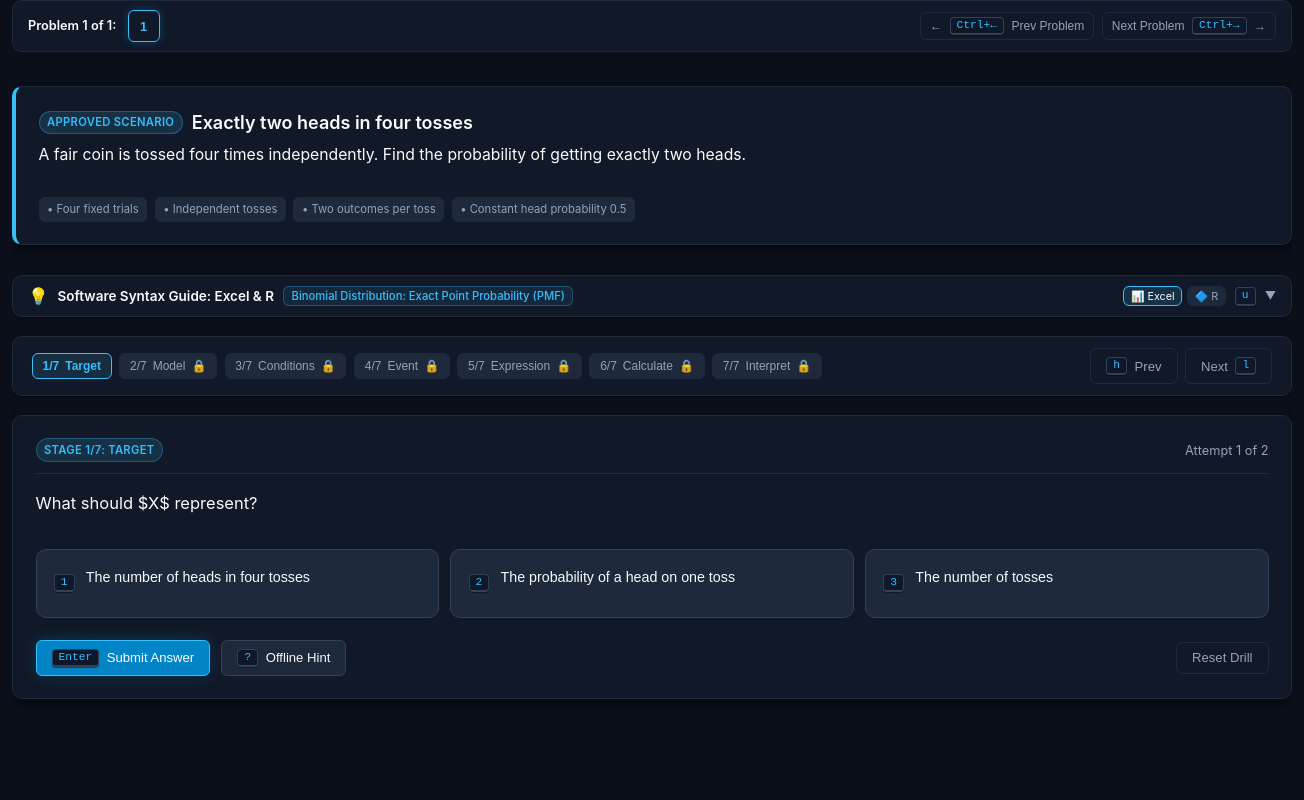
PracticeDrill Component › shows locked stage notice when clicking an unavailable future stage
This screenshot has width=1304, height=800.
Note: Click Stage 4
Click the tab "4/7 Event 🔒".
click(402, 366)  # box top-left (354, 353), bottom-right (450, 379)
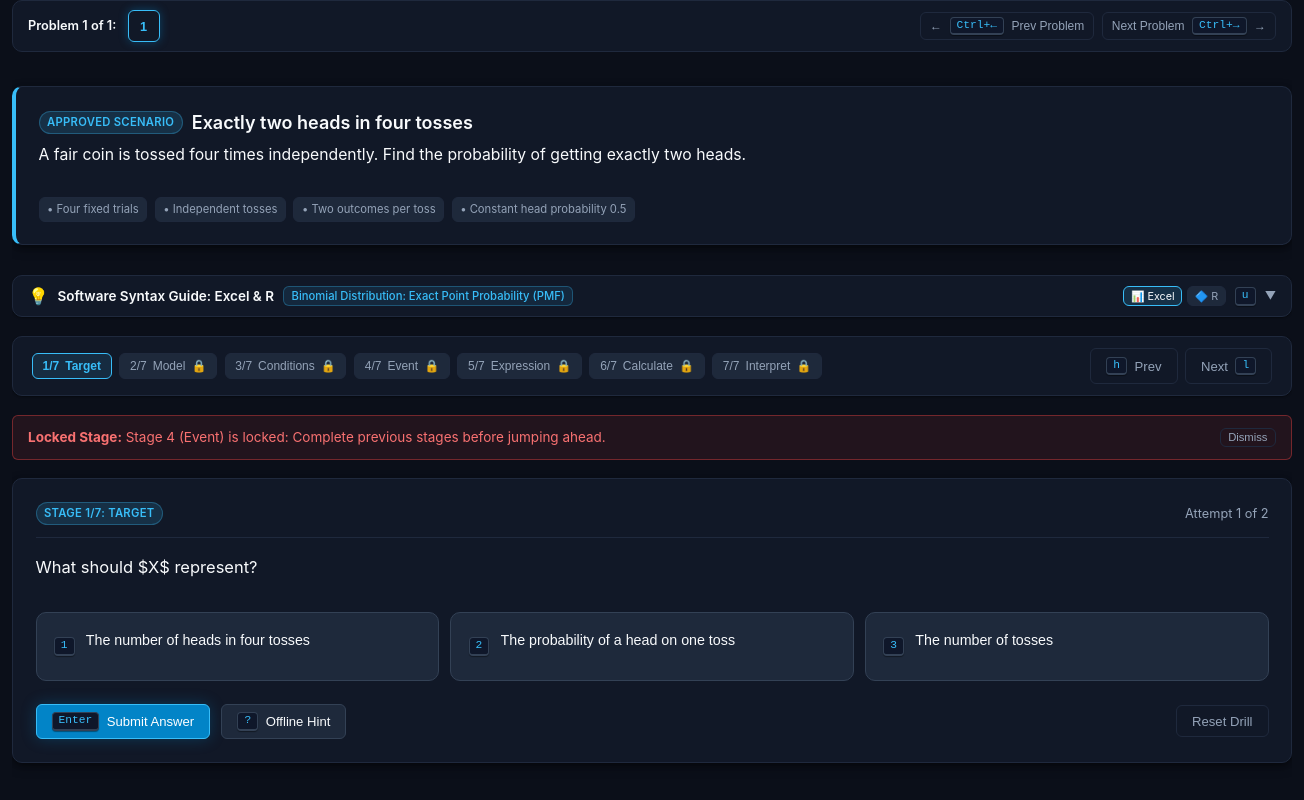
Result: the message is shown at top-left (12, 415), bottom-right (1292, 460)
Result: the text "Complete previous stages before jumping ahead" is shown at top-left (126, 429), bottom-right (606, 445)
